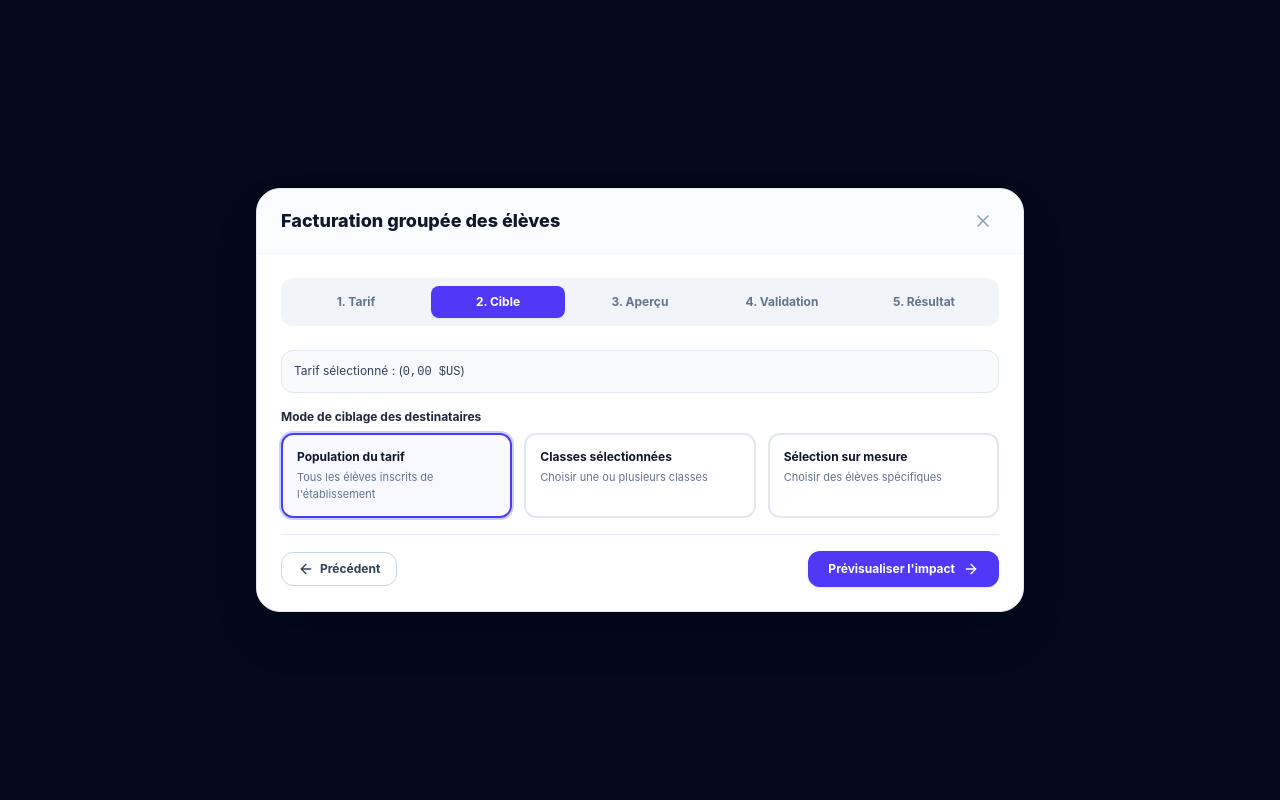
LOT 2K-FIN-BULK-F-V — Suite de 45 Tests Adversariaux Frontend Facturation Groupée › 28. Permet de cibler plusieurs classes dans le scope multi-classes
The width and height of the screenshot is (1280, 800).
Click the text "Classes sélectionnées": (606, 456) [540, 449, 672, 464]
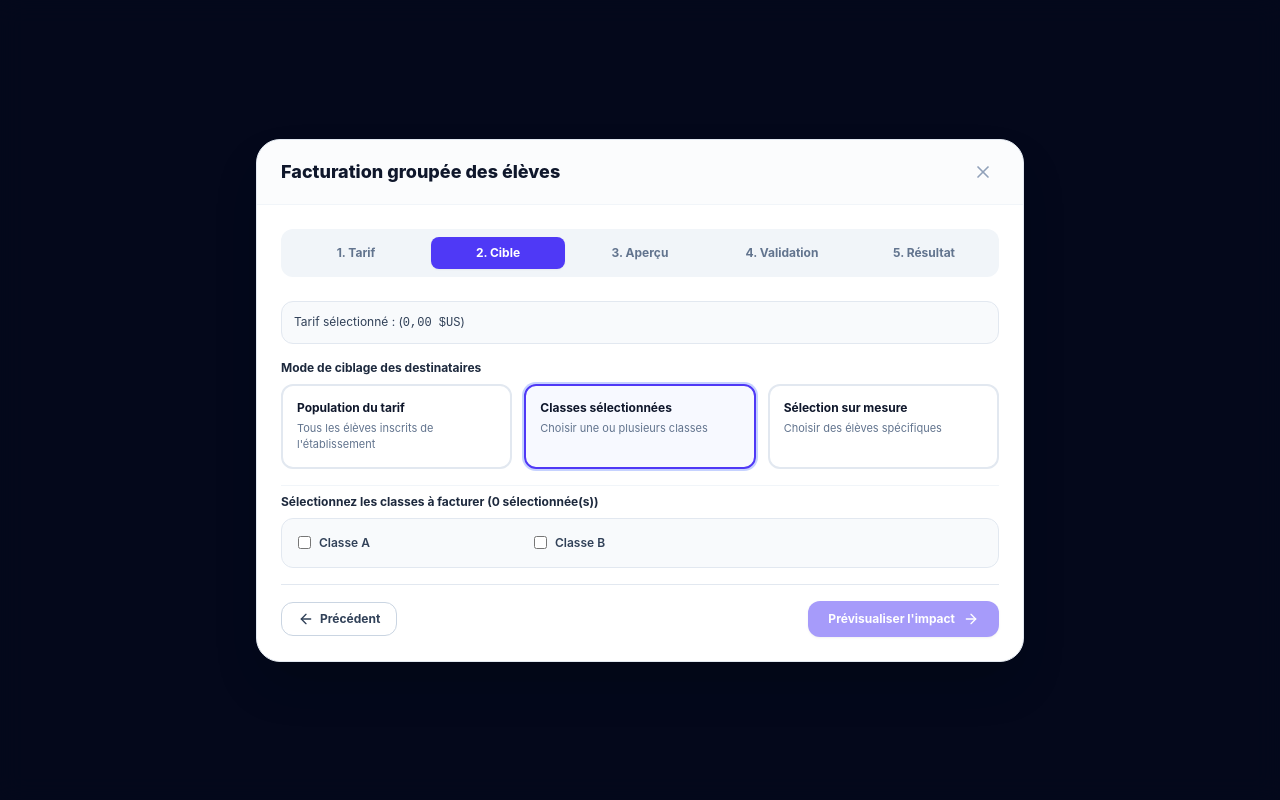
Expected: the text "Classe A" is shown, [319, 534, 370, 550]
Expected: the text "Classe B" is shown, [555, 534, 605, 550]
